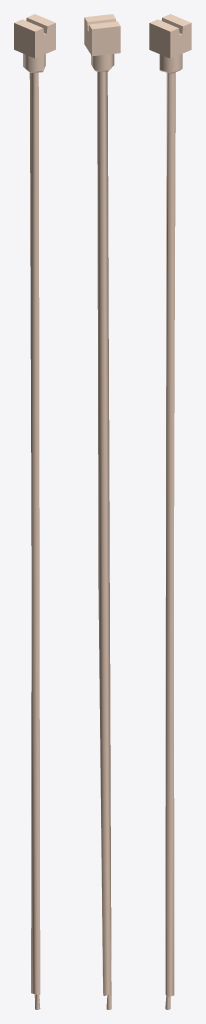
Rendered from Ressort fil Marteaux Q.Heures_Heures.obj.
The picture shows the model from 3 angles, left to right: view 1: azimuth 90°, elevation 25°; view 2: azimuth 150°, elevation 25°; view 3: azimuth 270°, elevation 25°; orthographic projection.
Parts seen in each view (by area): view 1: Face_3, Face_9, Face_10, Face_7, Face_1, Face_13; view 2: Face_3, Face_9, Face_7, Face_12, Face_1, Face_13; view 3: Face_3, Face_11, Face_12, Face_7, Face_13, Face_1.
Part boxes in pixels (x1=…): Face_3: x1=29, y1=72, x2=40, y2=995; Face_9: x1=14, y1=23, x2=34, y2=58; Face_10: x1=35, y1=23, x2=55, y2=58; Face_7: x1=23, y1=53, x2=45, y2=71; Face_1: x1=14, y1=19, x2=42, y2=31; Face_13: x1=27, y1=14, x2=55, y2=26; Face_3: x1=97, y1=71, x2=111, y2=995; Face_9: x1=92, y1=26, x2=120, y2=56; Face_7: x1=91, y1=54, x2=114, y2=70; Face_12: x1=84, y1=18, x2=91, y2=55; Face_1: x1=89, y1=21, x2=120, y2=29; Face_13: x1=84, y1=14, x2=115, y2=21; Face_3: x1=165, y1=72, x2=175, y2=997; Face_11: x1=149, y1=23, x2=170, y2=58; Face_12: x1=170, y1=23, x2=191, y2=58; Face_7: x1=159, y1=54, x2=182, y2=72; Face_13: x1=150, y1=19, x2=178, y2=31; Face_1: x1=162, y1=14, x2=190, y2=26.
Size of the model in its own units: 0.00778 by 0.2015 by 0.00778.
